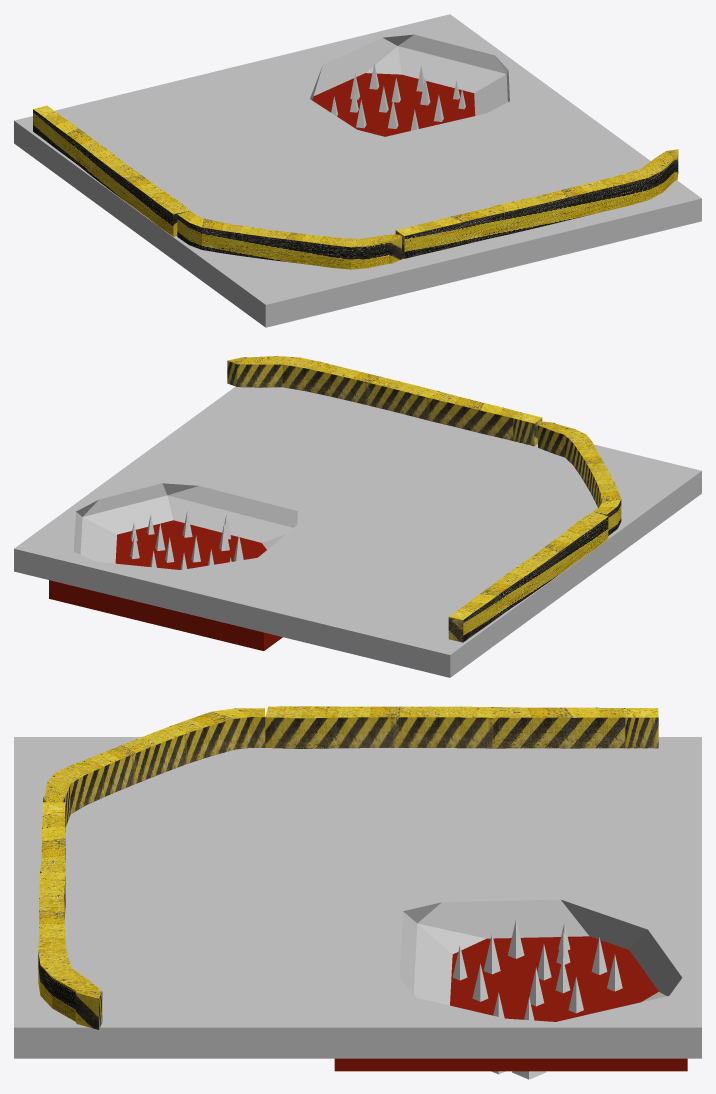
The model's file is SERoad.fbx.
3 renders of one model, top to bottom at view 1: azimuth 30°, elevation 25°; view 2: azimuth 150°, elevation 25°; view 3: azimuth 270°, elevation 25°, orthographic. The views are drawn at different scales.
Visible parts, largest first — view 1: Cube, Cube.004, Cube.002, Cube.003, Cube.001; view 2: Cube, Cube.004, Cube.003, Cube.001, Cube.002; view 3: Cube, Cube.001, Cube.003, Cube.002, Cube.004.
Part boxes in pixels (<box>): Cube: <box>14,14,701,327</box>; Cube.004: <box>395,149,678,258</box>; Cube.002: <box>177,211,403,269</box>; Cube.003: <box>312,73,475,136</box>; Cube.001: <box>33,105,189,236</box>; Cube: <box>14,386,701,677</box>; Cube.004: <box>227,356,542,446</box>; Cube.003: <box>49,520,282,650</box>; Cube.001: <box>448,511,608,642</box>; Cube.002: <box>538,421,621,535</box>; Cube: <box>14,737,701,1058</box>; Cube.001: <box>265,706,658,748</box>; Cube.003: <box>334,936,687,1071</box>; Cube.002: <box>43,708,265,826</box>; Cube.004: <box>38,802,102,1029</box>.
Bounding box in the file's own units: 4069 × 748 × 4000.
